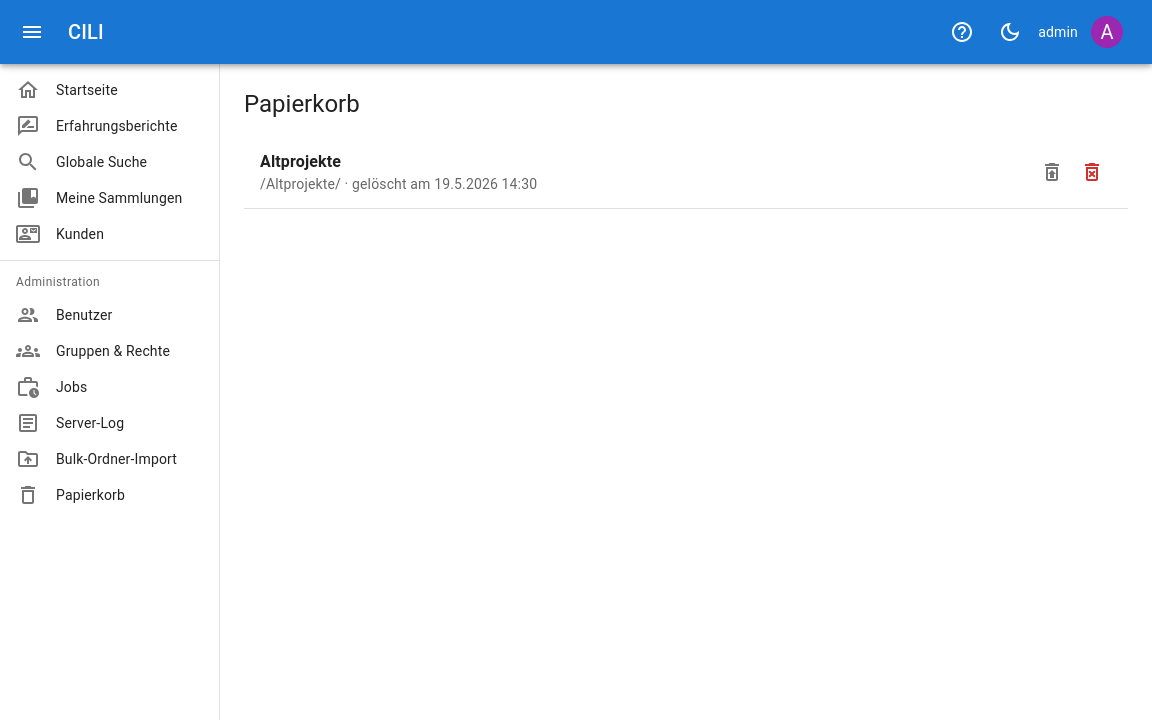
Test: TrashPage › opens confirm dialog when delete button is clicked
Check: the text "Altprojekte" is shown, box [260,152,341,171]
Click the button named "endgültig löschen" at (1092,172), box [1072,152,1112,192]
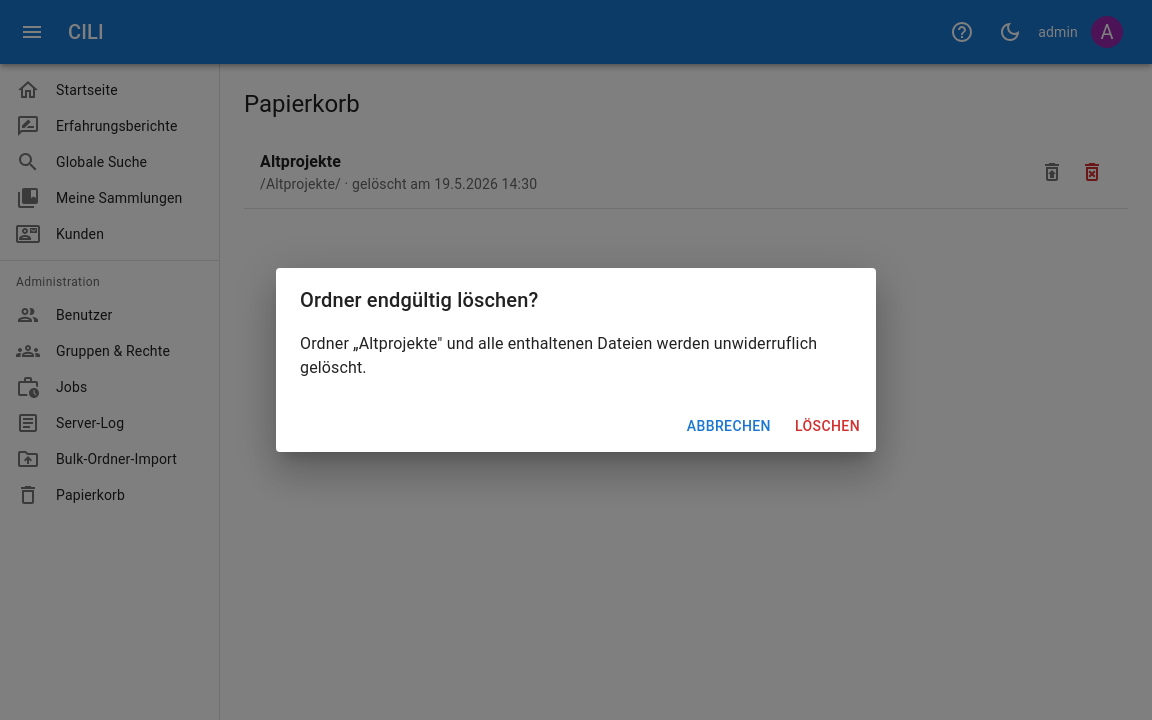
Check: the heading "Ordner endgültig löschen?" is shown, box [300,288,538,312]
Check: the text "unwiderruflich gelöscht" is shown, box [300,334,817,377]
